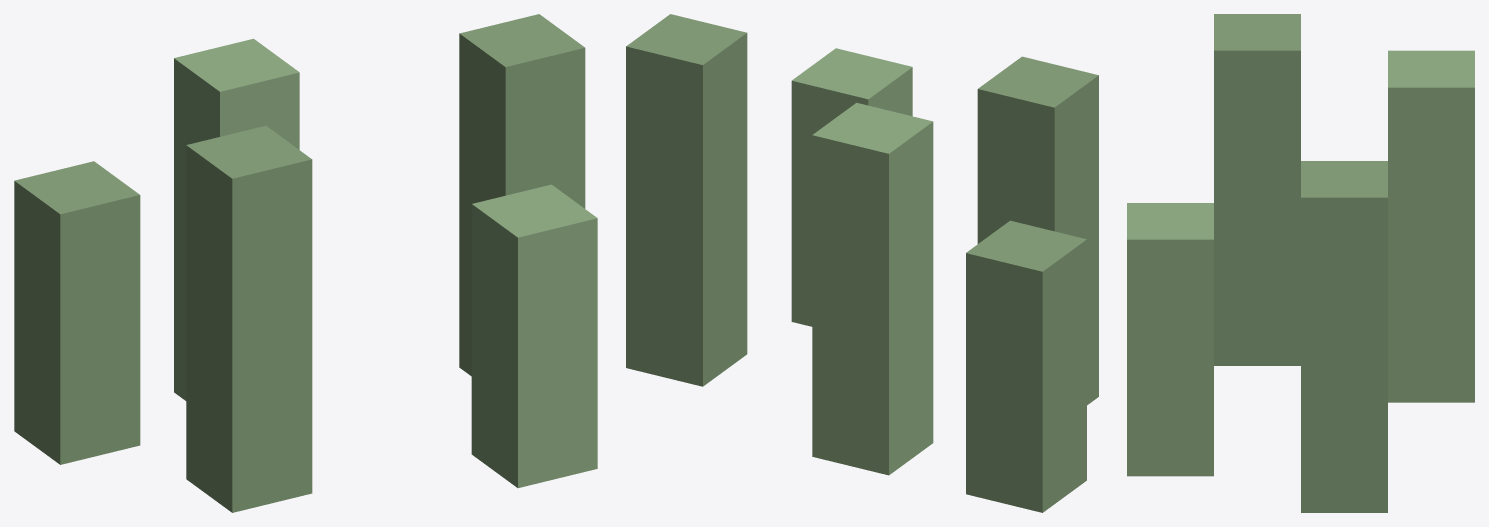
File: pepino_silvestre_01.glb
3 views of the same model, side by side, from view 1: azimuth 30°, elevation 25°; view 2: azimuth 150°, elevation 25°; view 3: azimuth 270°, elevation 25° (orthographic). The views are drawn at different scales.
Visible parts, largest first — view 1: pepino_silvestre_01; view 2: pepino_silvestre_01; view 3: pepino_silvestre_01.
Part boxes in pixels (x1,y1,x2,y2): pepino_silvestre_01: (14,14,597,512); pepino_silvestre_01: (626,14,1098,512); pepino_silvestre_01: (1127,14,1474,512).
Bounding box in the file's own units: 0.6 × 0.4 × 0.4.
